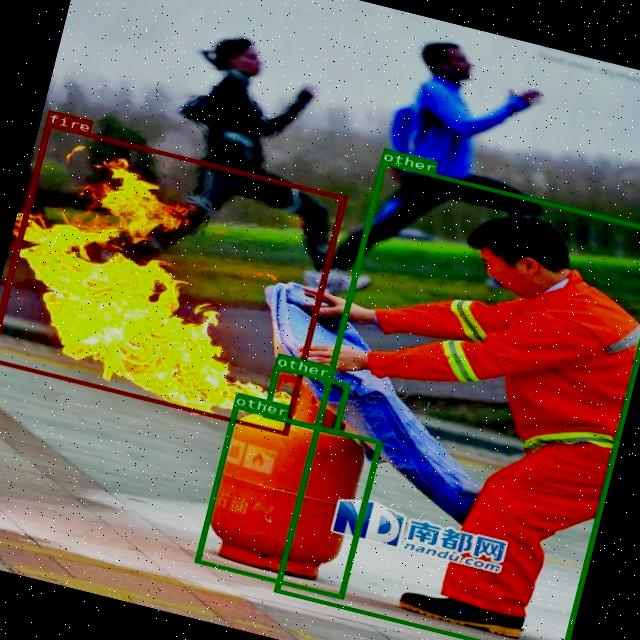fire: (0, 121, 345, 434)
